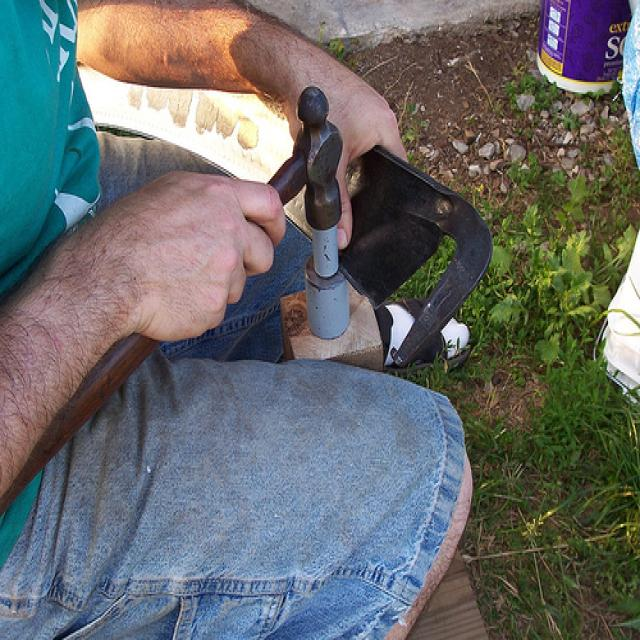hammer: (243, 55, 349, 232)
